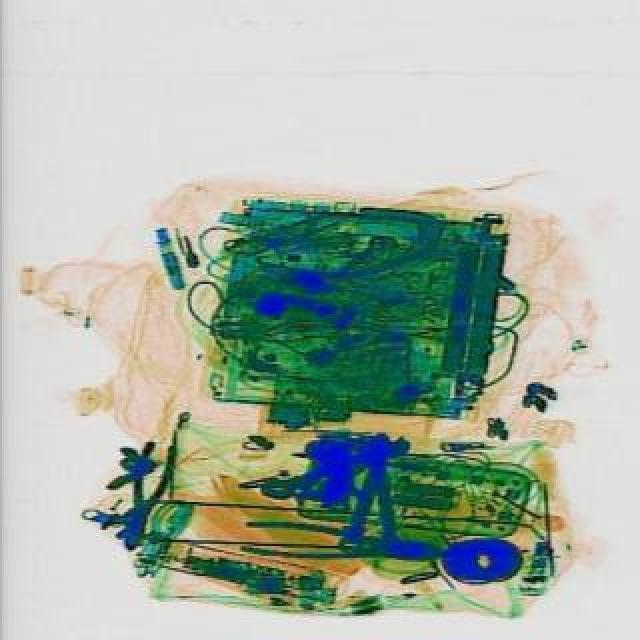wrench: (240, 516, 438, 572), (108, 436, 178, 554)
